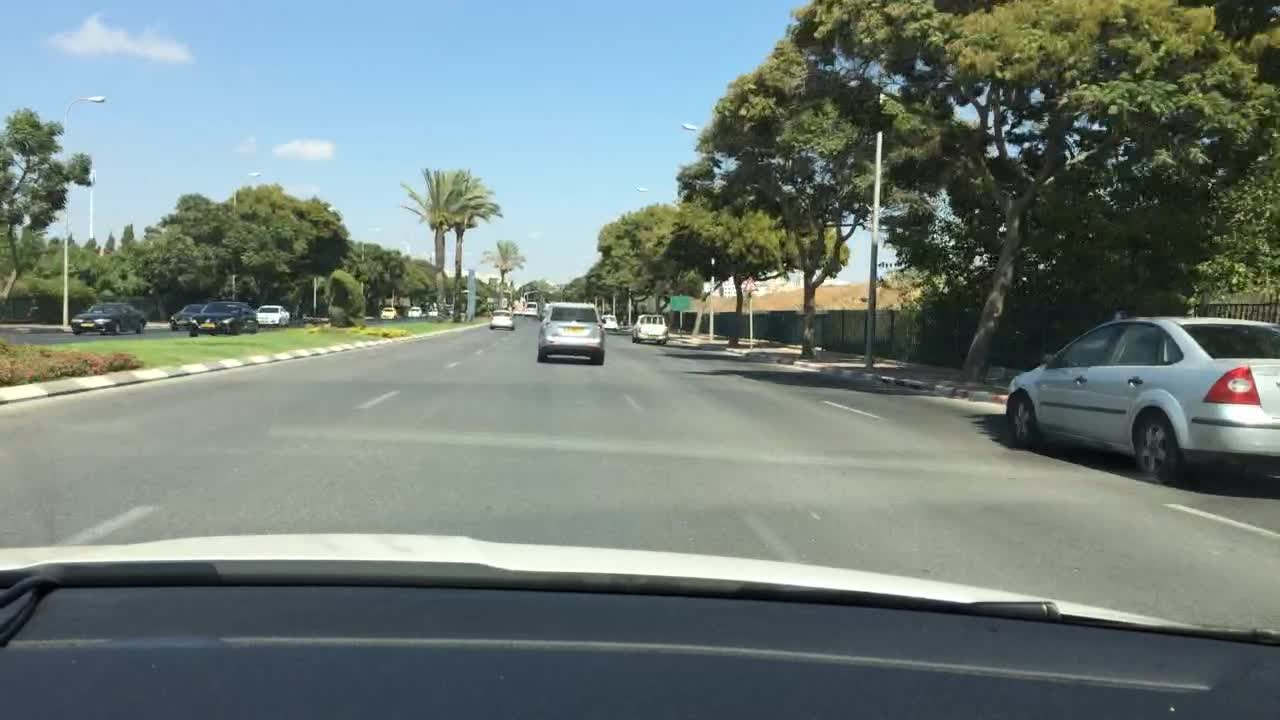car: (1004, 315, 1279, 479), (535, 297, 604, 364), (67, 300, 145, 336), (185, 299, 258, 336), (629, 314, 670, 346), (167, 300, 209, 329), (253, 300, 288, 327), (486, 309, 516, 332), (599, 312, 621, 332), (378, 304, 398, 320), (521, 299, 536, 315), (425, 304, 442, 317), (405, 302, 422, 315)
traffic sign: (666, 292, 694, 313)
